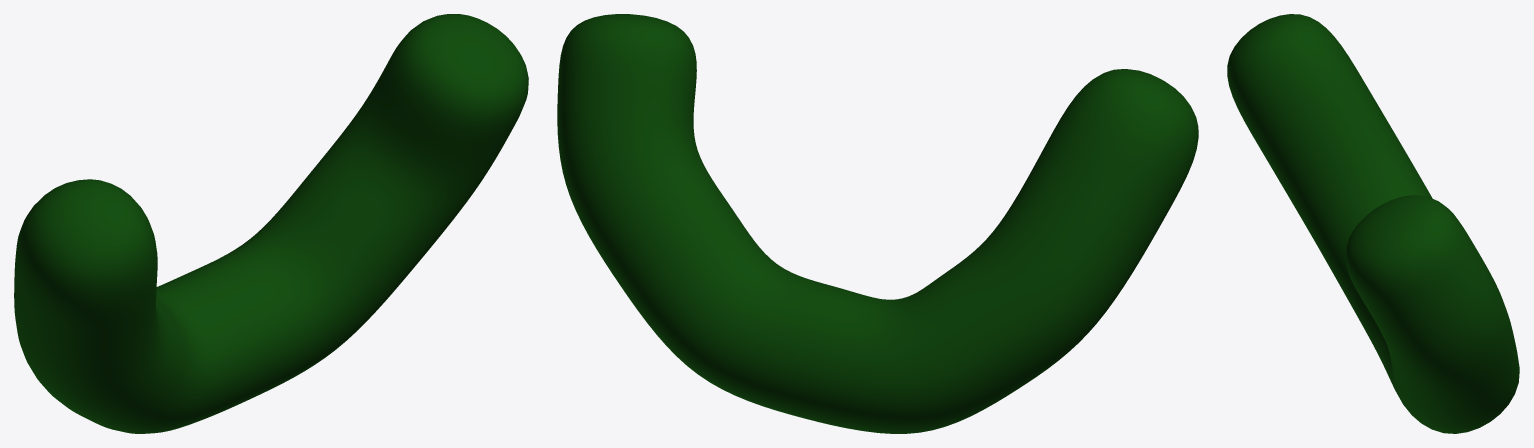
The model's file is wire.glb.
3 views of the same model, side by side, from view 1: azimuth 30°, elevation 25°; view 2: azimuth 150°, elevation 25°; view 3: azimuth 270°, elevation 25° (orthographic). The views are drawn at different scales.
Visible parts, largest first — view 1: Plane.002; view 2: Plane.002; view 3: Plane.002.
Boxes of the visible parts, x1,y1,x2,y2 form: Plane.002: [14, 14, 528, 433]; Plane.002: [557, 14, 1198, 433]; Plane.002: [1227, 14, 1519, 433].
Bounding box in the file's own units: 0.7598 × 0.4438 × 0.3892.
